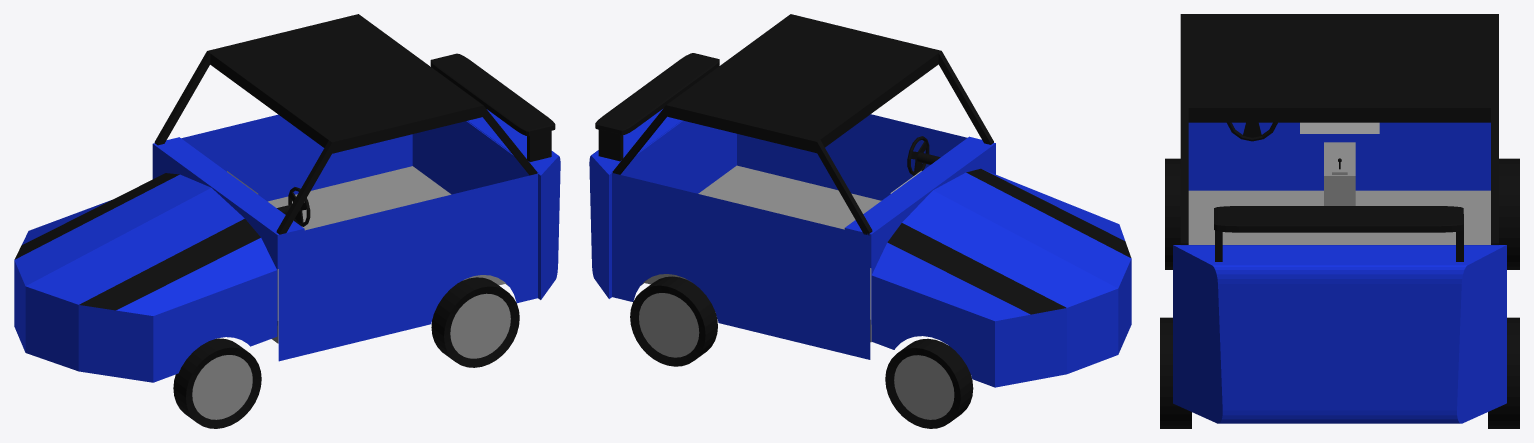
File: car_model_combined_mesh.fbx
3 renders of one model, left to right at view 1: azimuth 30°, elevation 25°; view 2: azimuth 150°, elevation 25°; view 3: azimuth 270°, elevation 25°, orthographic. The views are drawn at different scales.
Visible parts, largest first — view 1: Frame, WheelRearL, WheelFrontL; view 2: Frame, WheelRearR, WheelFrontR; view 3: Frame, WheelFrontR, SideSeparator, WheelRearR, WheelRearL, WheelFrontL, Screen, DriverWheel.
Boxes of the visible parts, bbox=[...] form: Frame: bbox=[14, 14, 560, 382]; WheelRearL: bbox=[431, 277, 519, 367]; WheelFrontL: bbox=[173, 338, 261, 428]; Frame: bbox=[589, 14, 1131, 387]; WheelRearR: bbox=[630, 276, 717, 366]; WheelFrontR: bbox=[885, 338, 973, 428]; Frame: bbox=[1173, 14, 1506, 423]; WheelFrontR: bbox=[1499, 158, 1519, 269]; SideSeparator: bbox=[1324, 142, 1355, 205]; WheelRearR: bbox=[1488, 317, 1519, 428]; WheelRearL: bbox=[1160, 317, 1191, 428]; WheelFrontL: bbox=[1165, 158, 1180, 269]; Screen: bbox=[1300, 122, 1379, 133]; DriverWheel: bbox=[1227, 122, 1277, 141].
Size of the model in its own units: 89.58 by 44.65 by 45.23.
